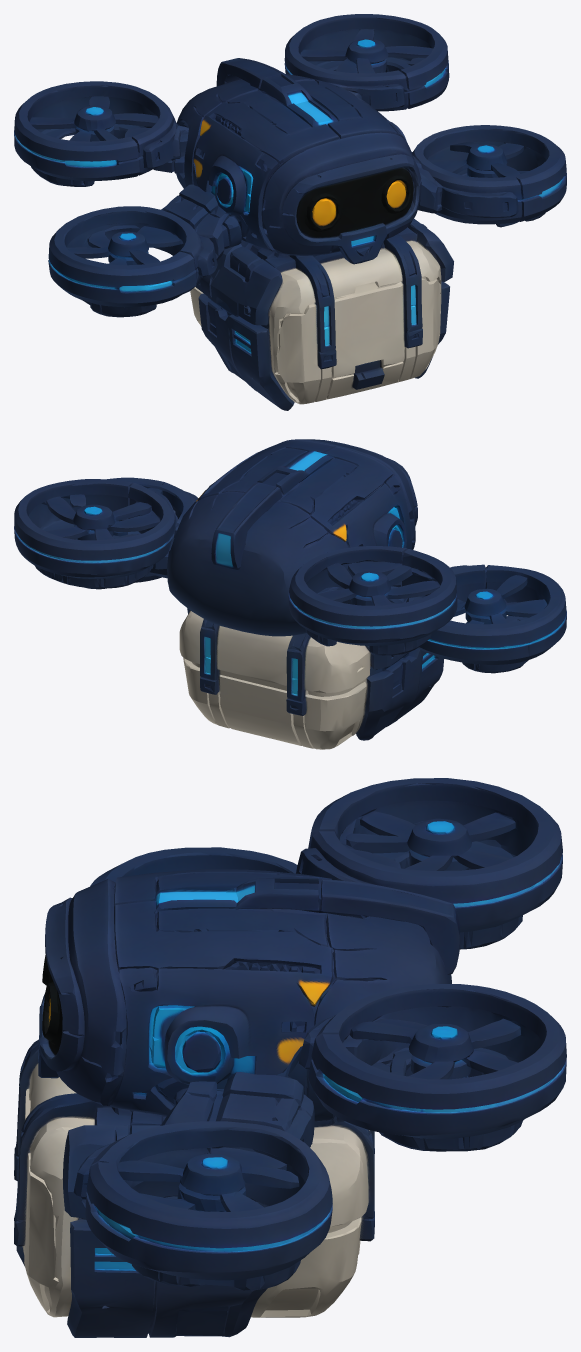
The model's file is source.glb.
The picture shows the model from 3 angles, top to bottom: view 1: azimuth 30°, elevation 25°; view 2: azimuth 150°, elevation 25°; view 3: azimuth 270°, elevation 25°; orthographic projection. The views are drawn at different scales.
Parts seen in each view (by area): view 1: model; view 2: model; view 3: model.
Boxes of the visible parts, left/top/right/bottom form: model: left=14, top=14, right=566, bottom=410; model: left=14, top=439, right=566, bottom=749; model: left=14, top=778, right=566, bottom=1337.
Size of the model in its own units: 1.9 by 0.9589 by 1.19.
Materials: 1 (1 with a texture image).
